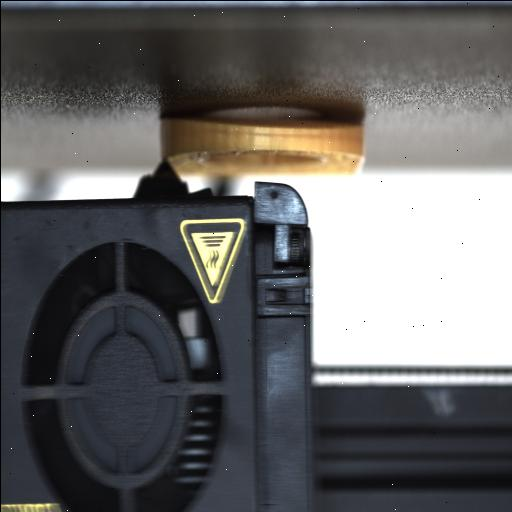warp: (161, 106, 358, 137)
